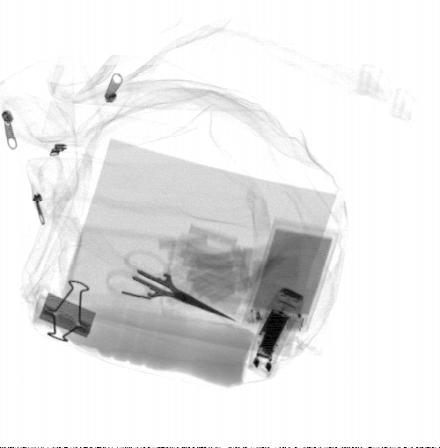Powerbank: (243, 212, 342, 336)
Scissors: (103, 248, 240, 328)
